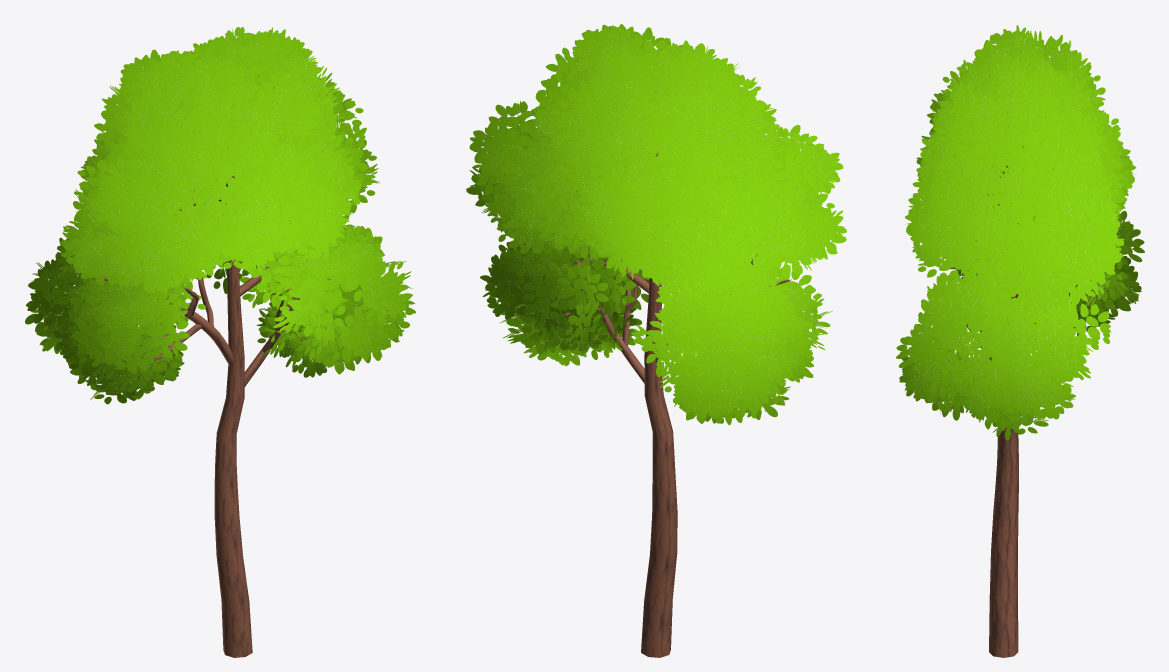
The model's file is NormalTree_1.glb.
3 views of the same model, side by side, from view 1: azimuth 30°, elevation 25°; view 2: azimuth 150°, elevation 25°; view 3: azimuth 270°, elevation 25° (orthographic). The views are drawn at different scales.
Parts seen in each view (by area): view 1: NormalTree_1; view 2: NormalTree_1; view 3: NormalTree_1.
Boxes of the visible parts, bbox=[...] form: NormalTree_1: bbox=[25, 27, 415, 657]; NormalTree_1: bbox=[466, 24, 846, 657]; NormalTree_1: bbox=[896, 25, 1144, 657].
Bounding box in the file's own units: 4.05 × 6.87 × 2.74.
Materials: 2 (2 with a texture image).
